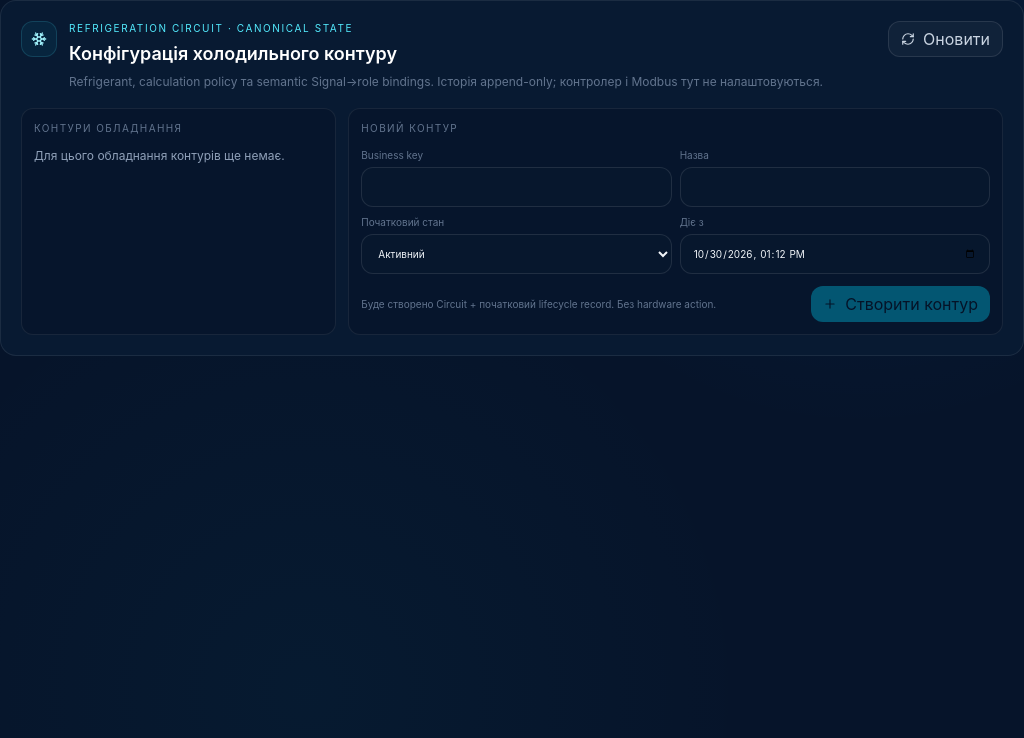
Test: RefrigerationCircuitConfigurationWorkspace › shows a truthful zero-circuit state and creates a canonical circuit for an operator
The image size is (1024, 738).
Check: the text "Для цього обладнання контурів ще немає." is shown, box [34, 148, 323, 164]
Type "main" into the field labelled "Business key" at (516, 187), box [361, 167, 672, 207]
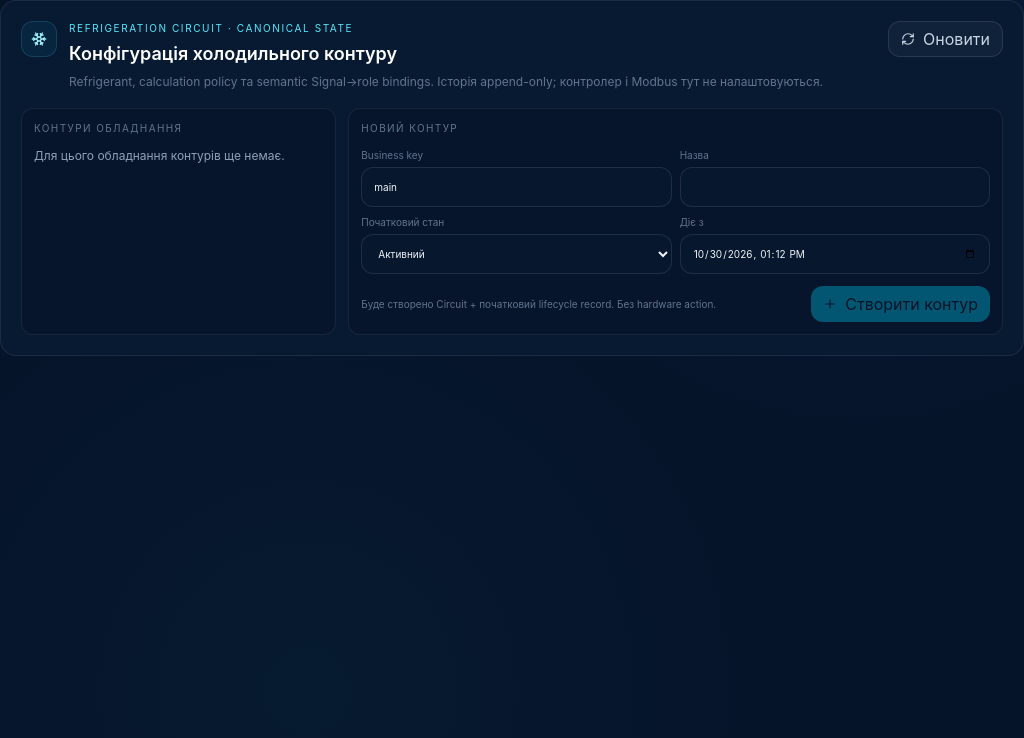
Type "Основний контур" into the field labelled "Назва" at (835, 187), box [680, 167, 990, 207]
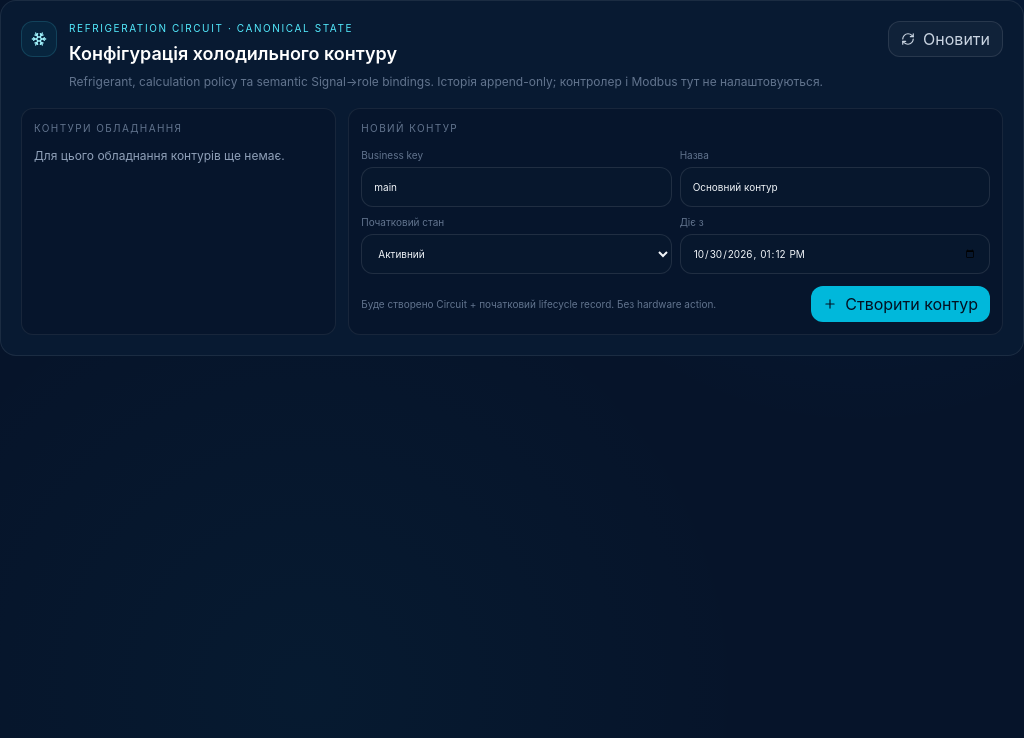
Click the button "Створити контур" at (901, 304), box [811, 286, 990, 322]
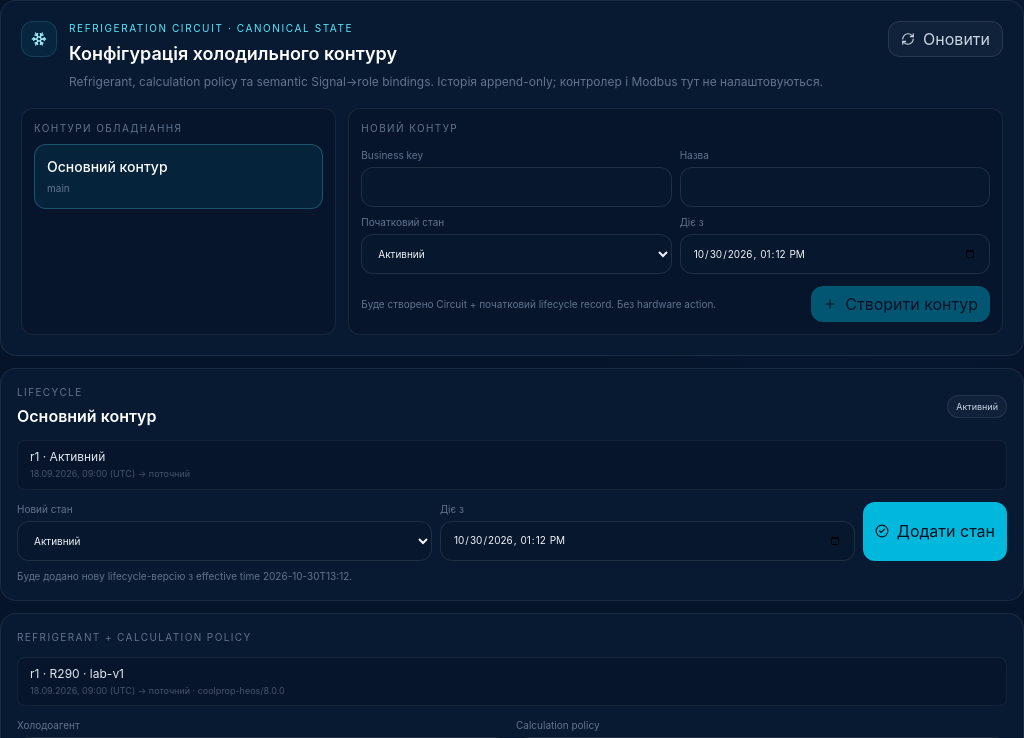
Check: the heading "Основний контур" is shown, box [17, 404, 156, 428]
